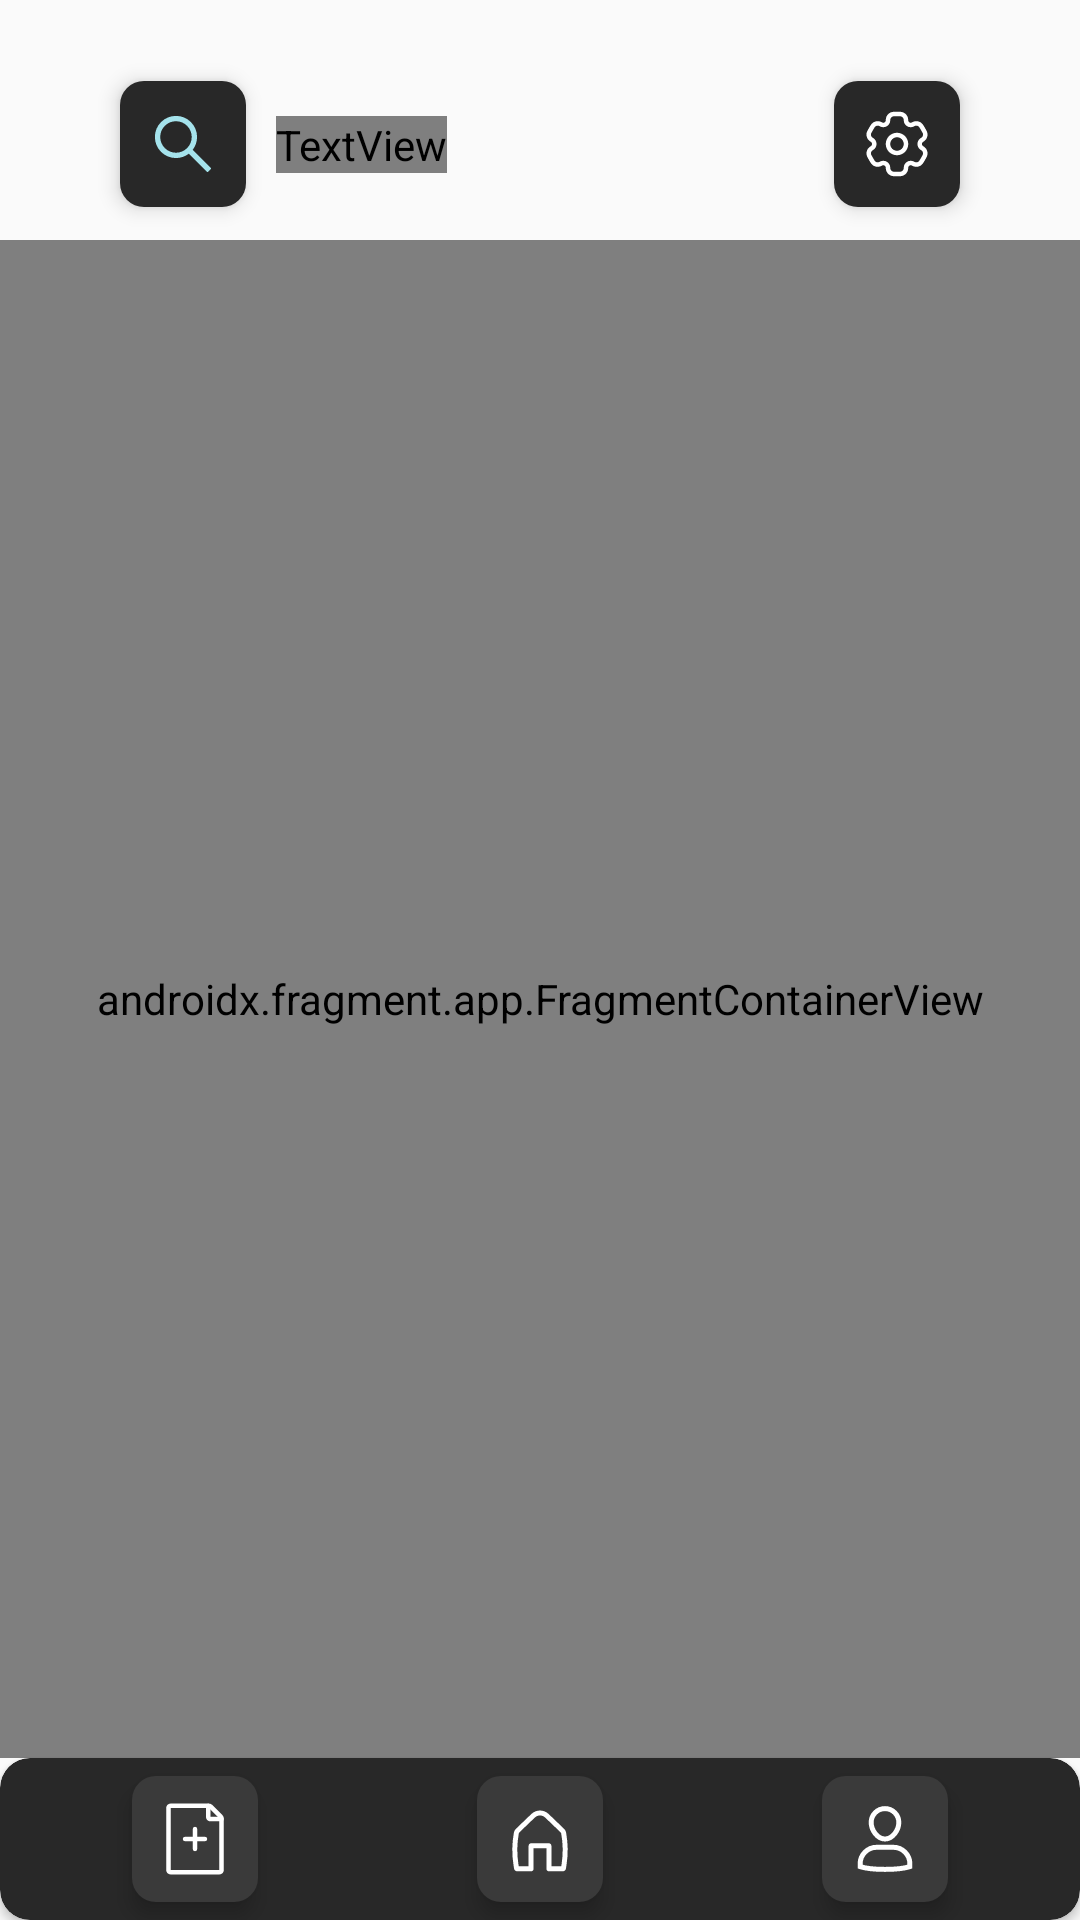

Where to tap for icons on this 1080 x 1920 app screen, as (x,y):
home page: (540,1839)
profile page: (885,1839)
search: (183,144)
settings: (897,144)
